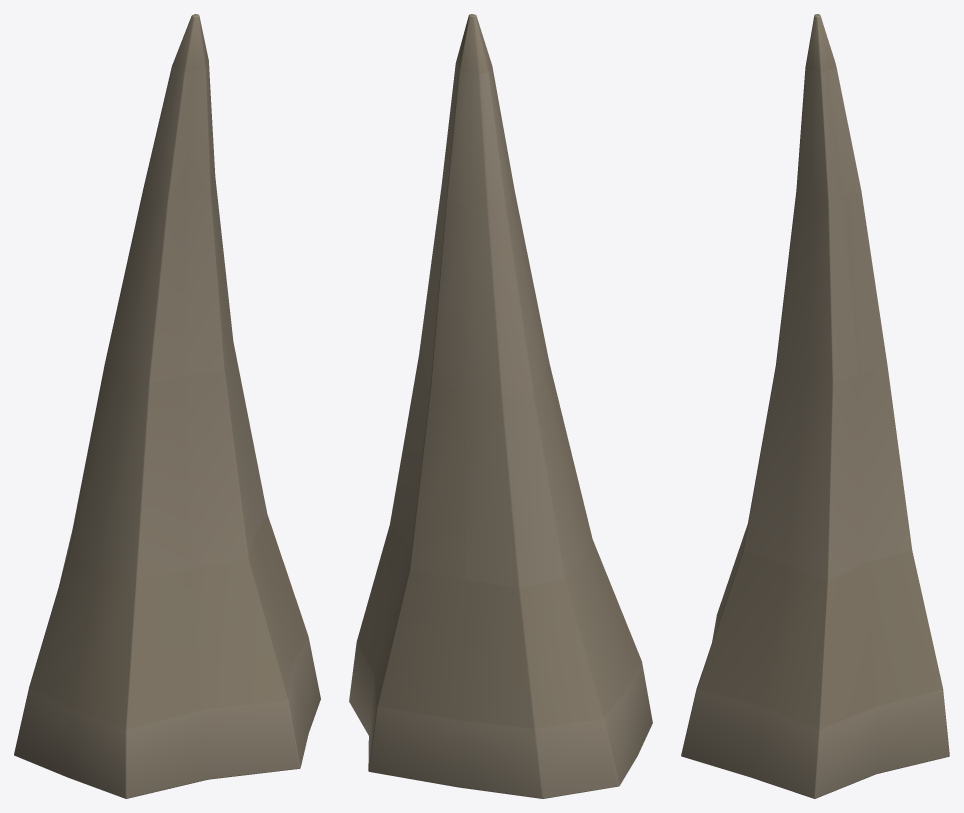
File: rock_stalagmite_01.glb
3 renders of one model, left to right at view 1: azimuth 30°, elevation 25°; view 2: azimuth 150°, elevation 25°; view 3: azimuth 270°, elevation 25°, orthographic.
Visible parts, largest first — view 1: rock_stalagmite_01; view 2: rock_stalagmite_01; view 3: rock_stalagmite_01.
Boxes of the visible parts, x1,y1,x2,y2 form: rock_stalagmite_01: (14, 14, 320, 798); rock_stalagmite_01: (349, 14, 652, 798); rock_stalagmite_01: (681, 14, 949, 798).
Size of the model in its own units: 1.1 by 2.6 by 0.8759.
